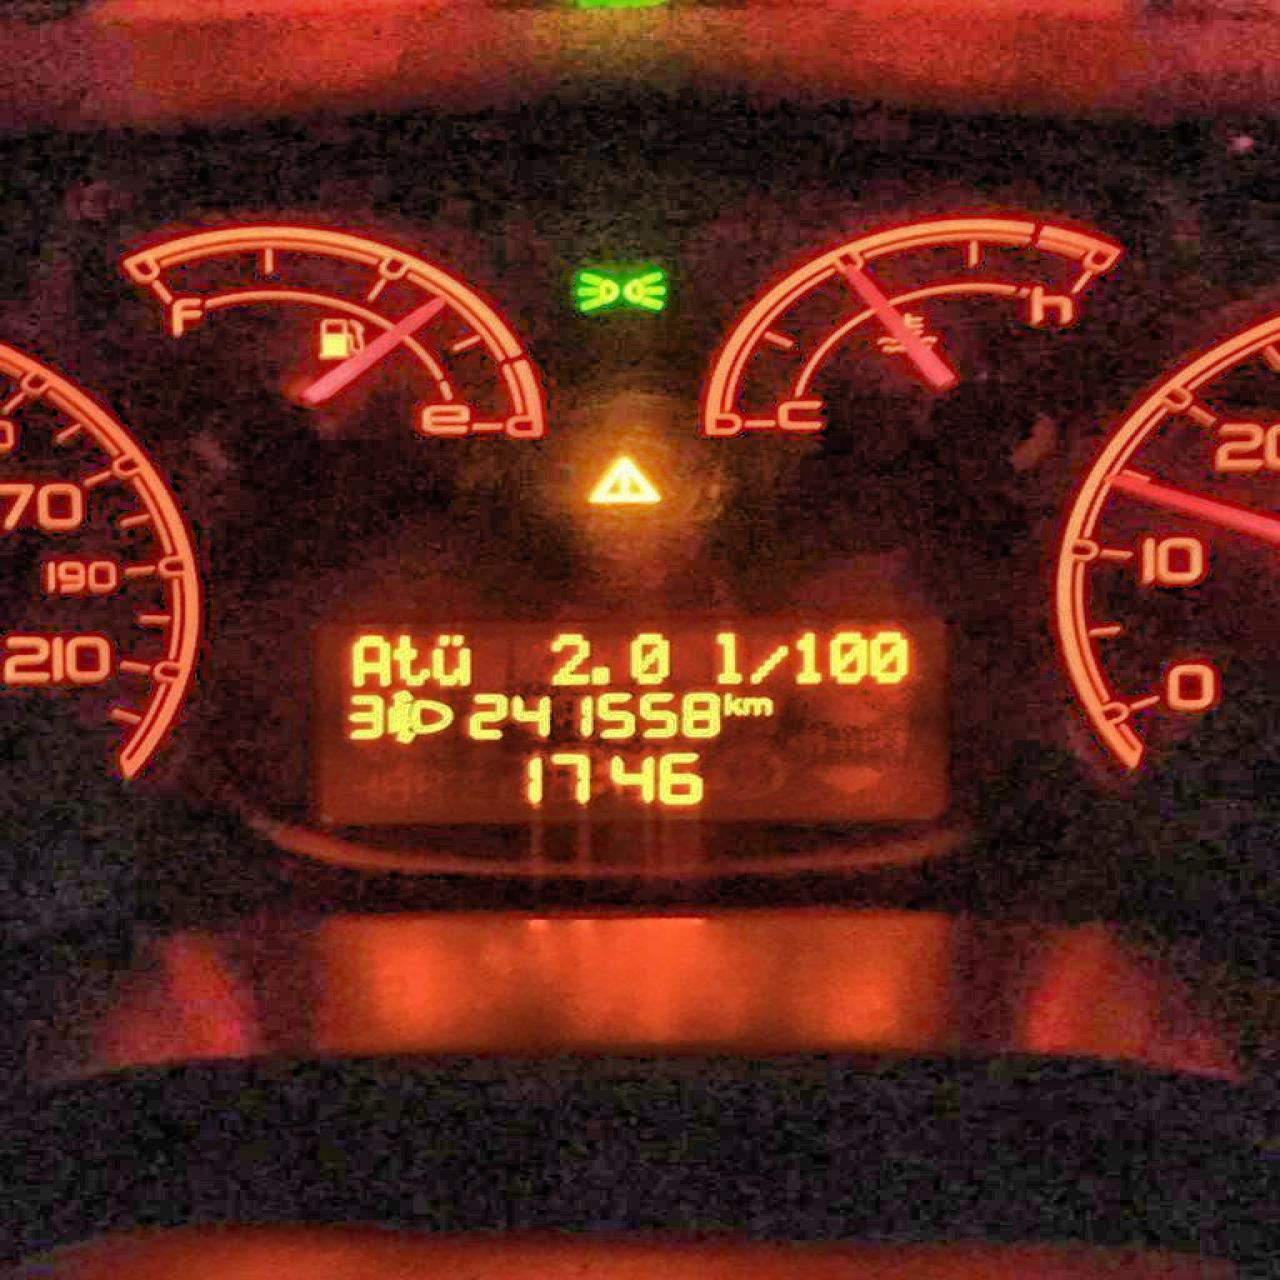-: (591, 663, 612, 688)
0: (627, 632, 670, 687), (826, 627, 866, 687), (870, 629, 908, 685)
1: (794, 628, 824, 688), (523, 751, 545, 805), (574, 693, 593, 737)
2: (543, 632, 590, 688), (467, 690, 513, 740)
3: (347, 693, 386, 740)
4: (606, 751, 656, 801), (510, 690, 553, 738)
5: (636, 690, 679, 738), (597, 690, 633, 740)
6: (659, 750, 704, 806)
7: (549, 750, 592, 805)
8: (679, 689, 722, 738)
X: (347, 633, 392, 687), (430, 633, 474, 688), (392, 634, 431, 685), (712, 626, 745, 683), (749, 642, 789, 686), (742, 695, 775, 720), (719, 692, 742, 720)
odometer: (304, 606, 961, 839)
